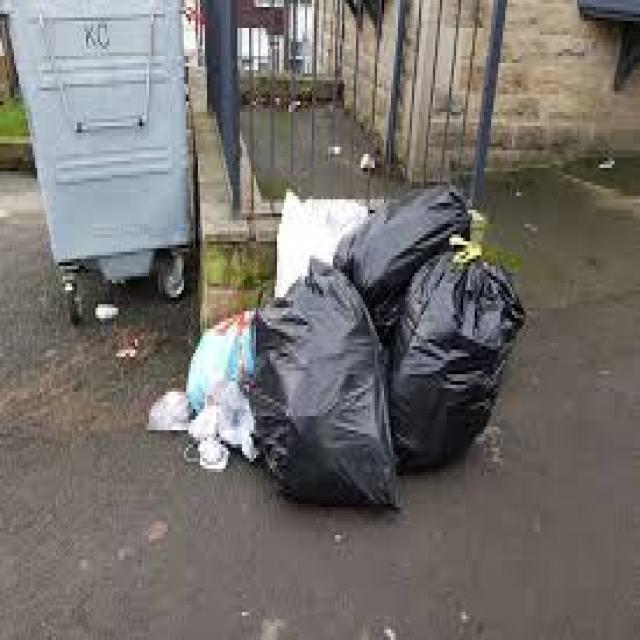garbage: (252, 181, 526, 518), (140, 306, 256, 474), (90, 292, 124, 328), (356, 148, 379, 180)
